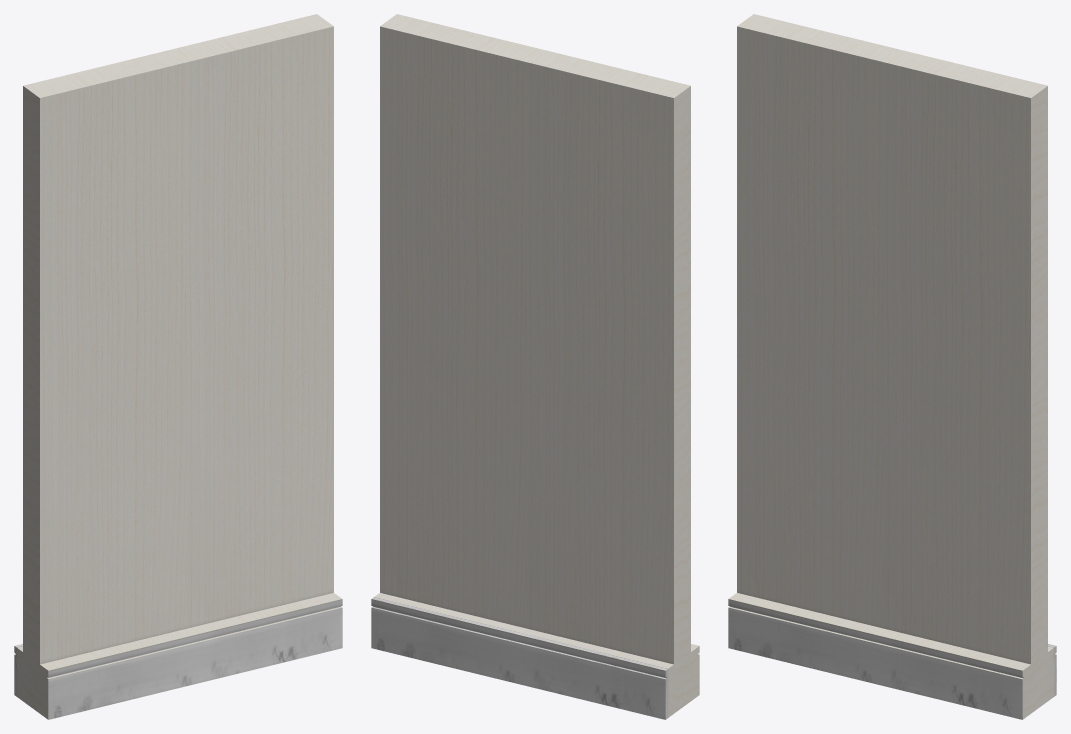
The model's file is WallSingle_SM.FBX.
3 renders of one model, left to right at view 1: azimuth 30°, elevation 25°; view 2: azimuth 150°, elevation 25°; view 3: azimuth 330°, elevation 25°, orthographic.
Visible parts, largest first — view 1: ModularHalfWall; view 2: ModularHalfWall; view 3: ModularHalfWall.
Boxes of the visible parts, x1=… form: ModularHalfWall: x1=14, y1=14, x2=342, y2=719; ModularHalfWall: x1=371, y1=14, x2=699, y2=719; ModularHalfWall: x1=728, y1=14, x2=1056, y2=719.
Size of the model in its own units: 200 by 40 by 400.
1 material, 1 textured.
